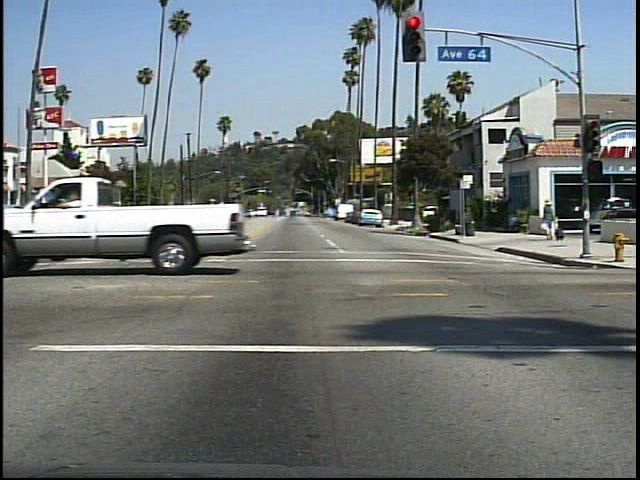person: (538, 194, 565, 247)
